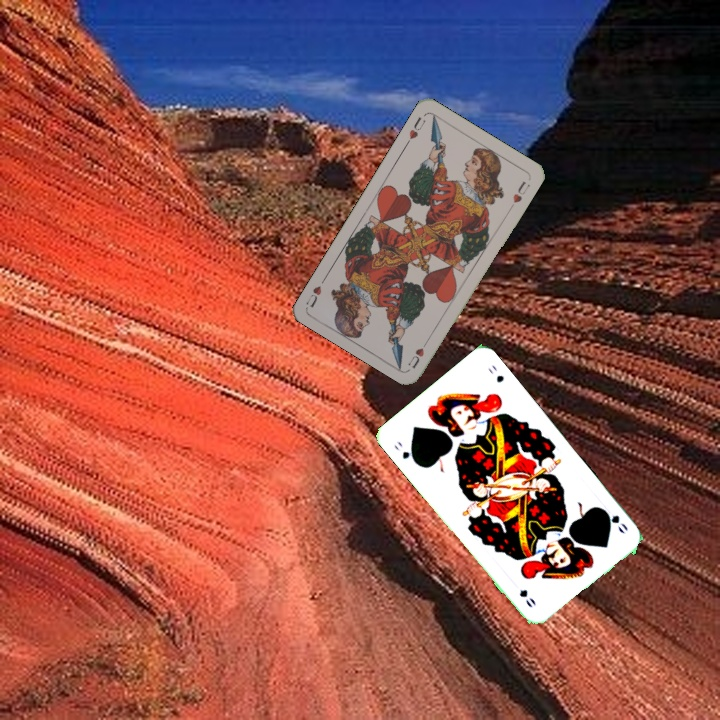GO: (390, 437, 421, 467), (600, 506, 630, 536)
HU: (404, 335, 432, 371), (402, 112, 428, 148)
